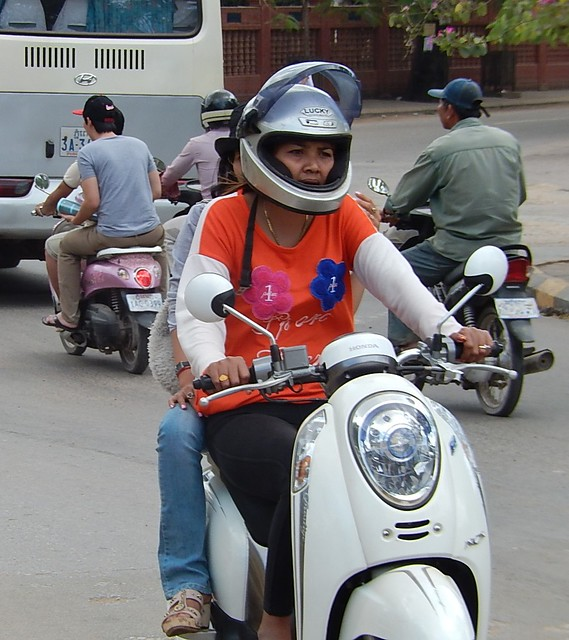helmet: (239, 76, 360, 222)
